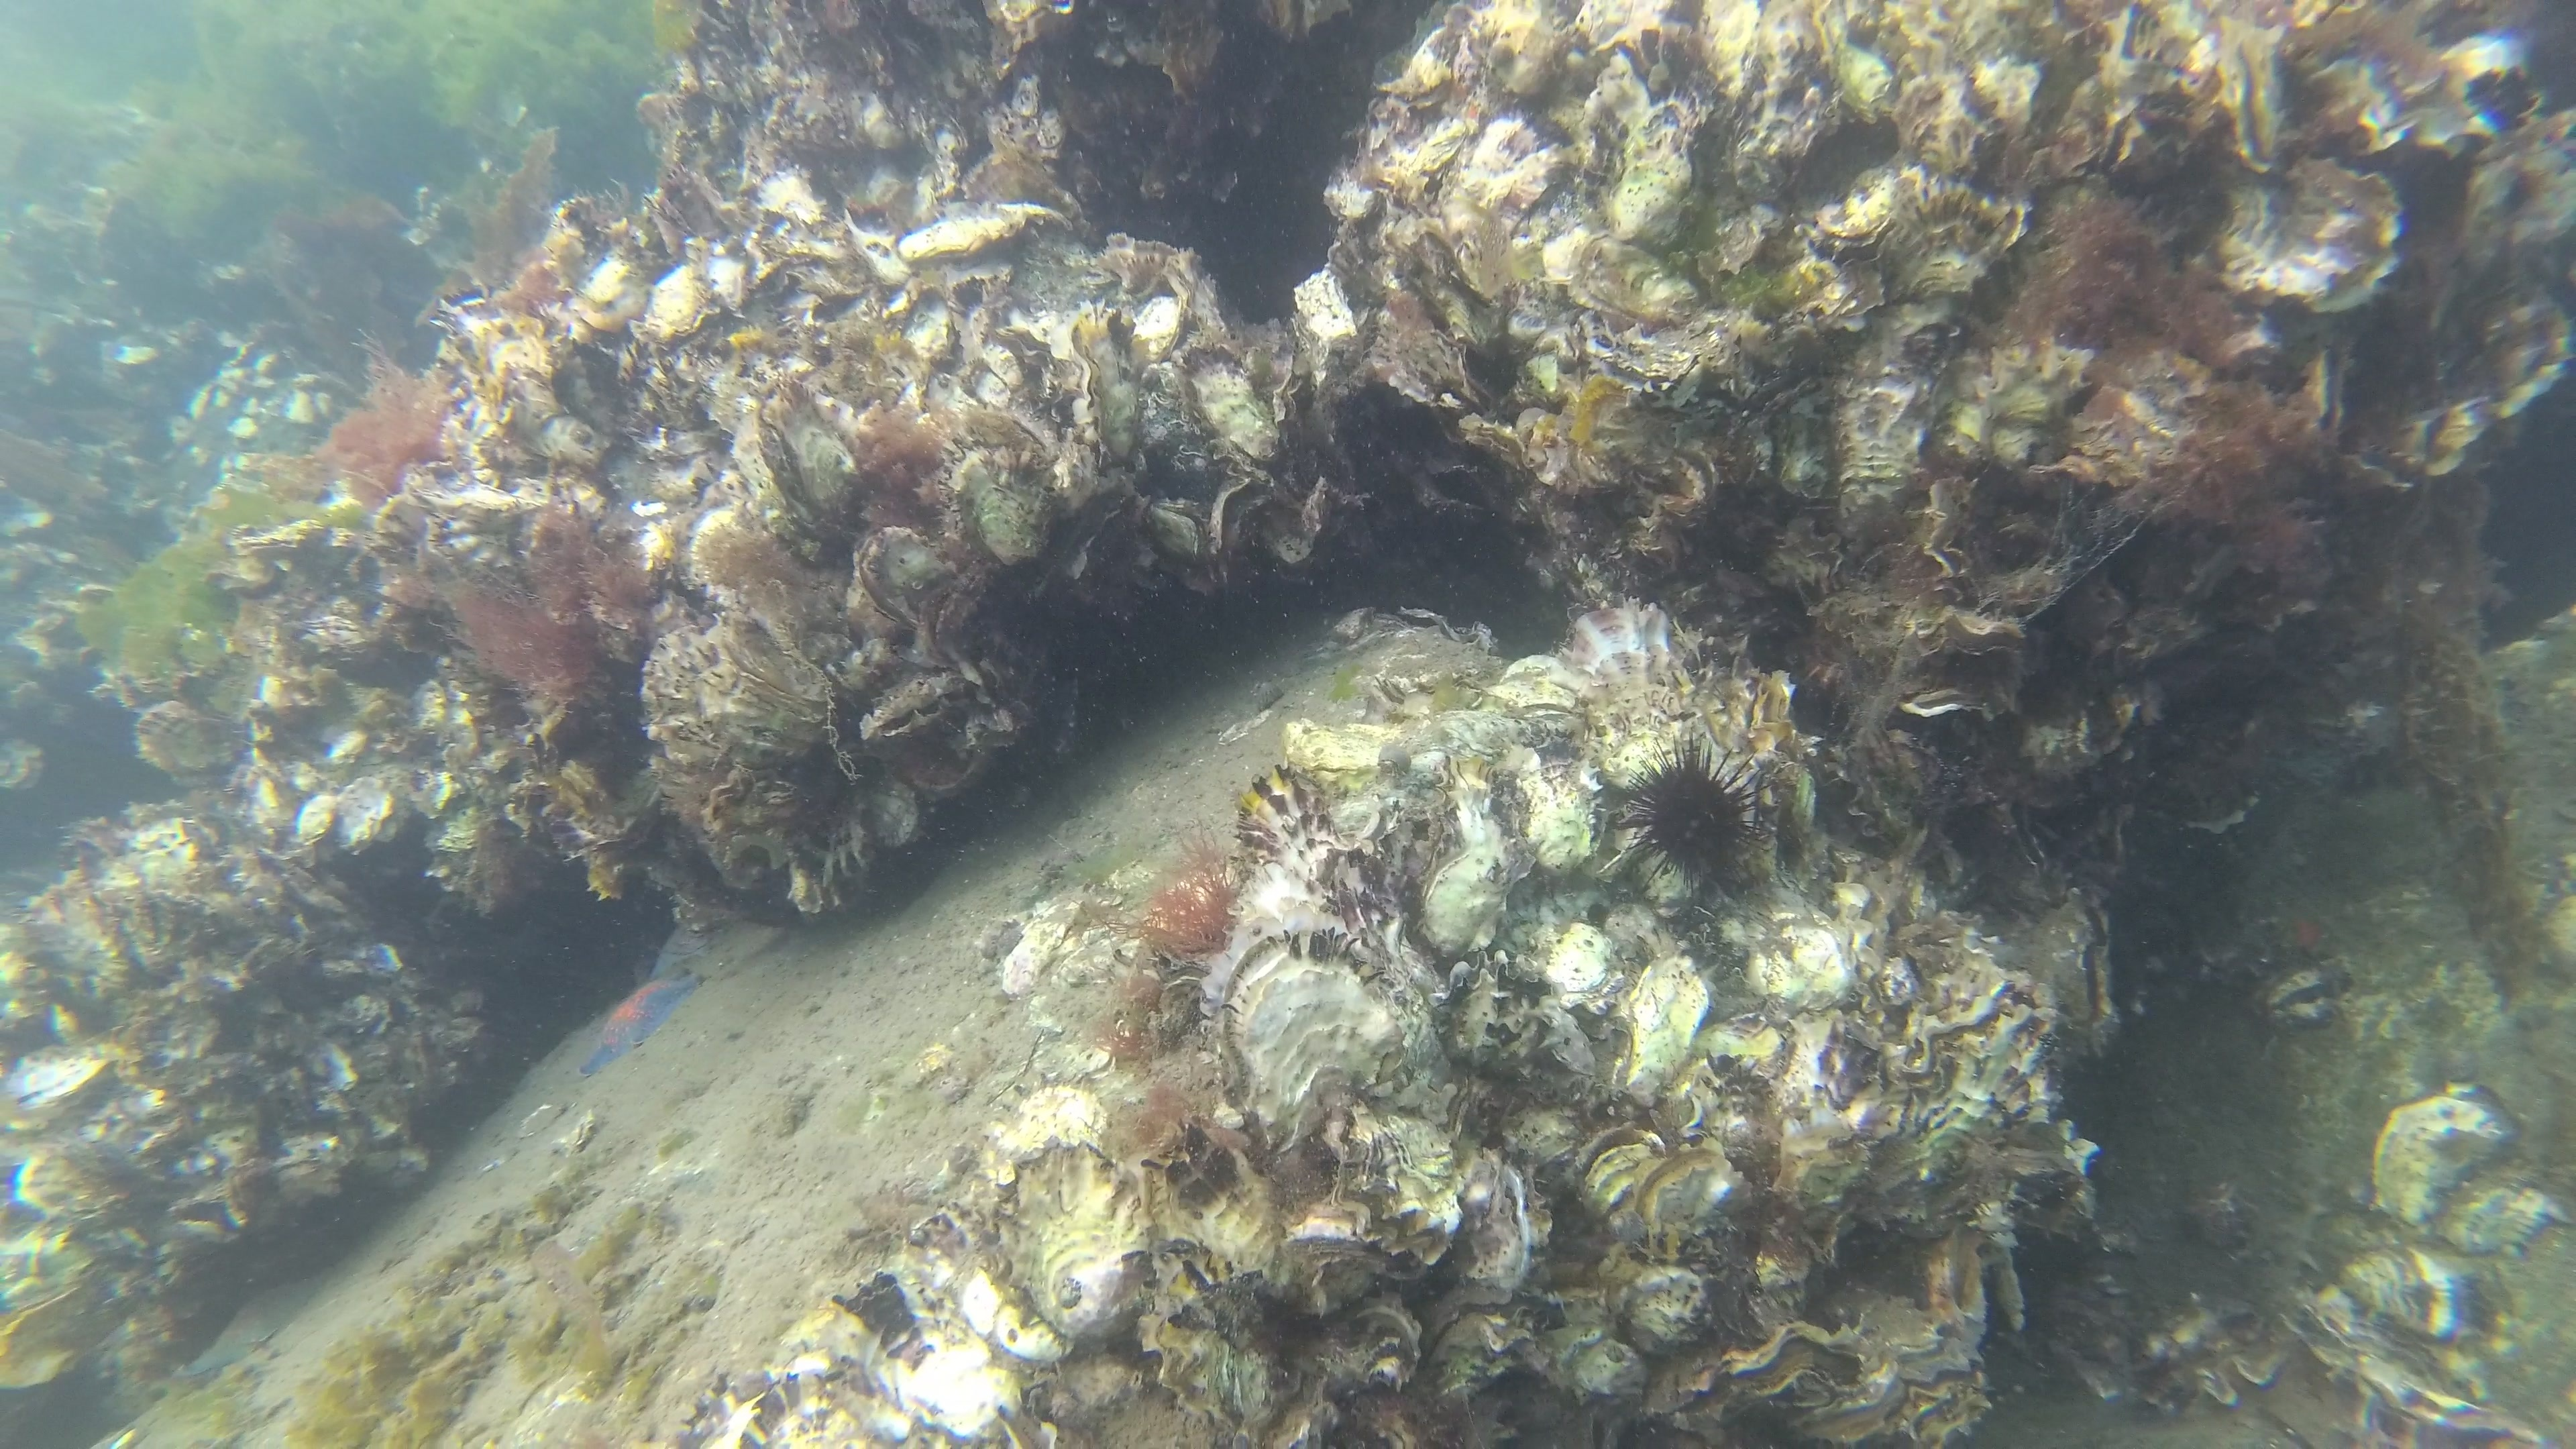echinus: (1610, 747, 1780, 893)
starfish: (580, 973, 704, 1077), (648, 918, 736, 984)
